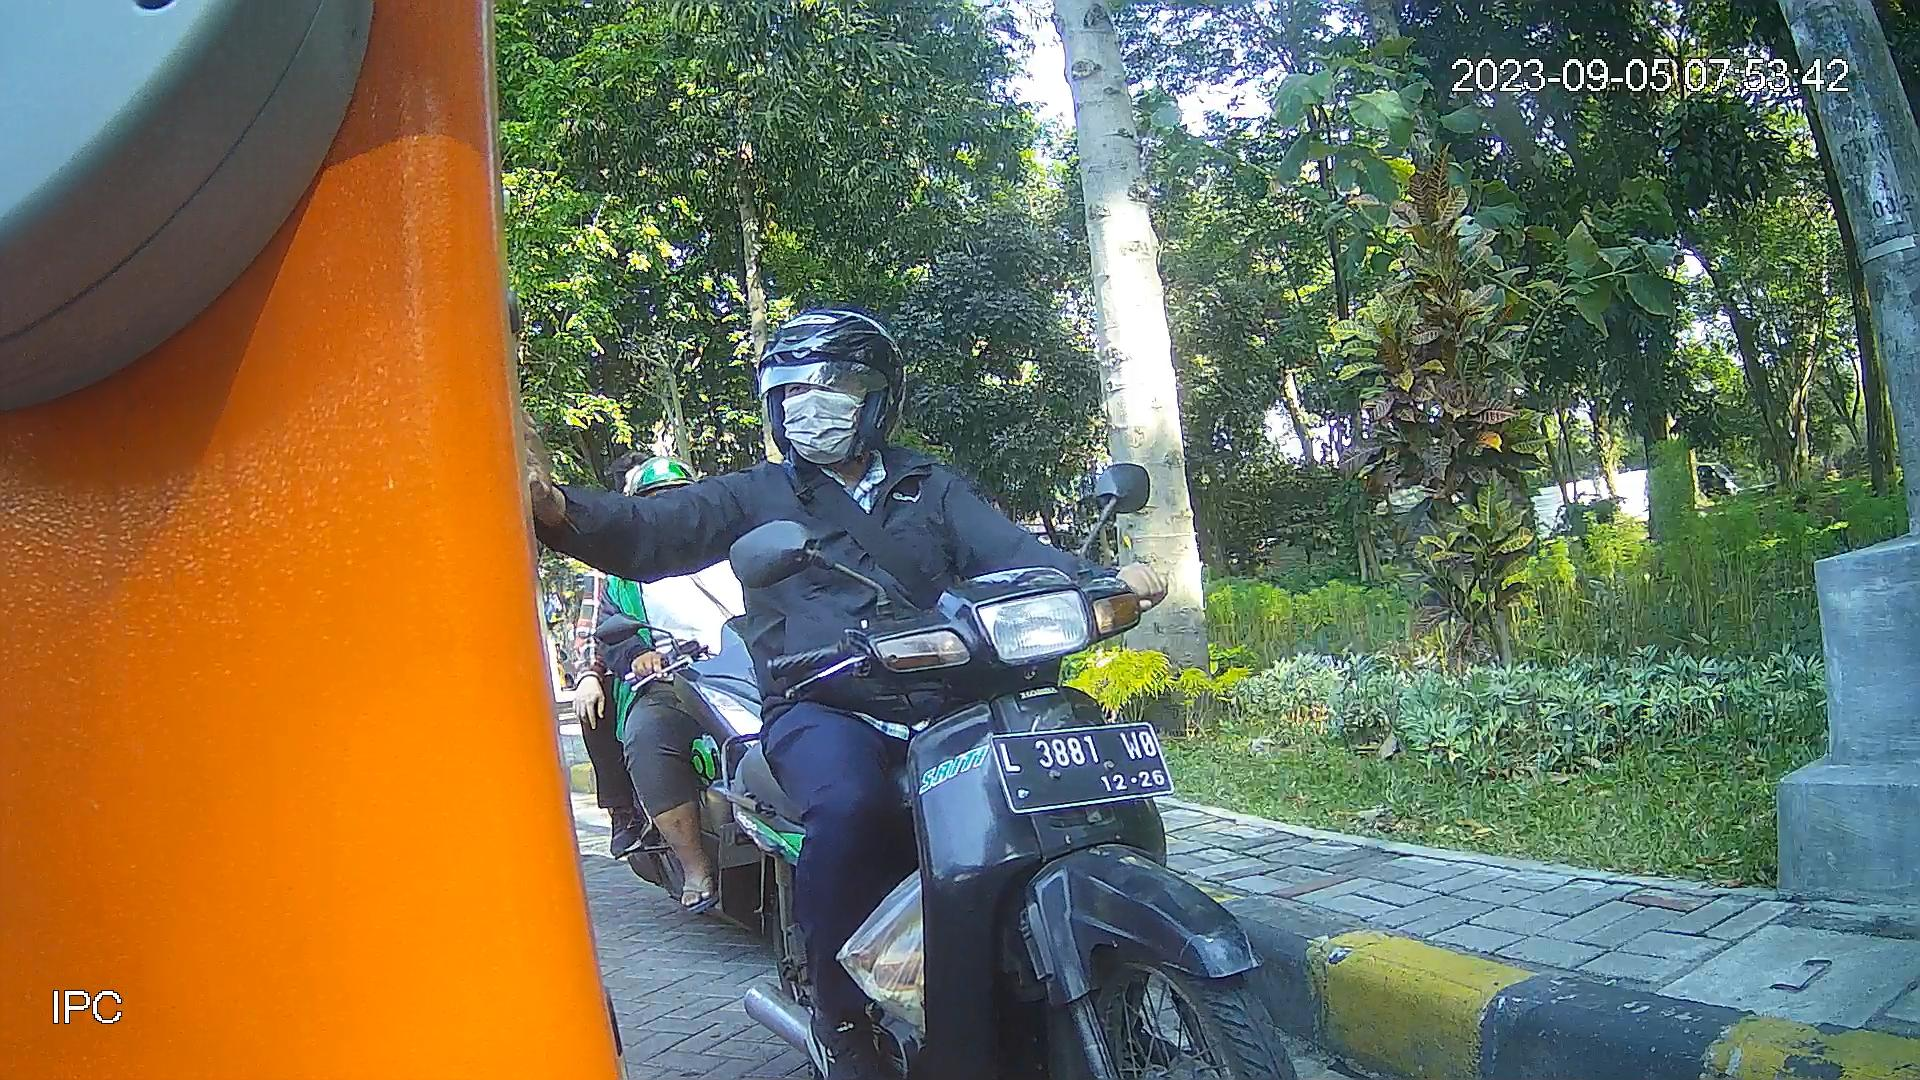plat: (981, 723, 1179, 819)
